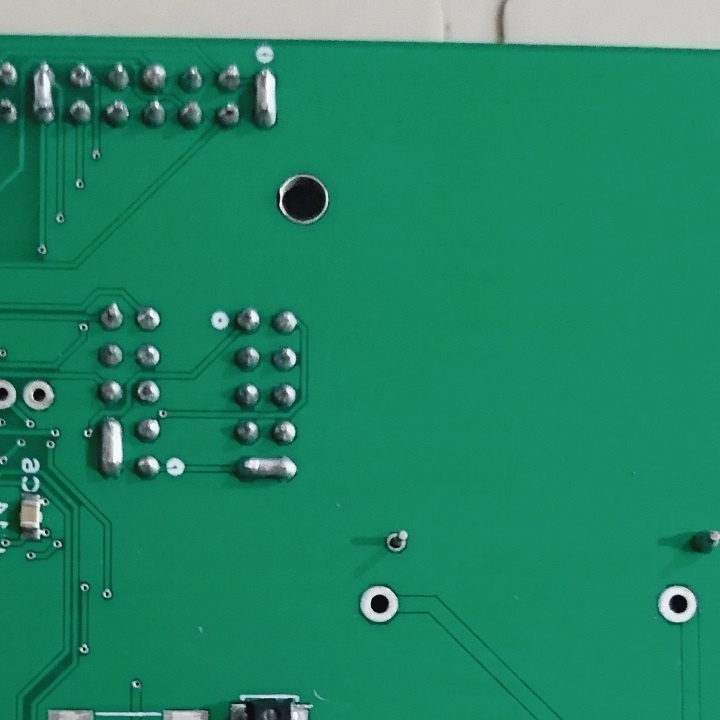F: (656, 584, 700, 626), (360, 580, 401, 625), (21, 378, 56, 414), (384, 525, 410, 557), (1, 378, 19, 412)
P: (233, 452, 301, 483), (96, 413, 127, 481), (30, 58, 59, 128), (250, 65, 279, 134)
